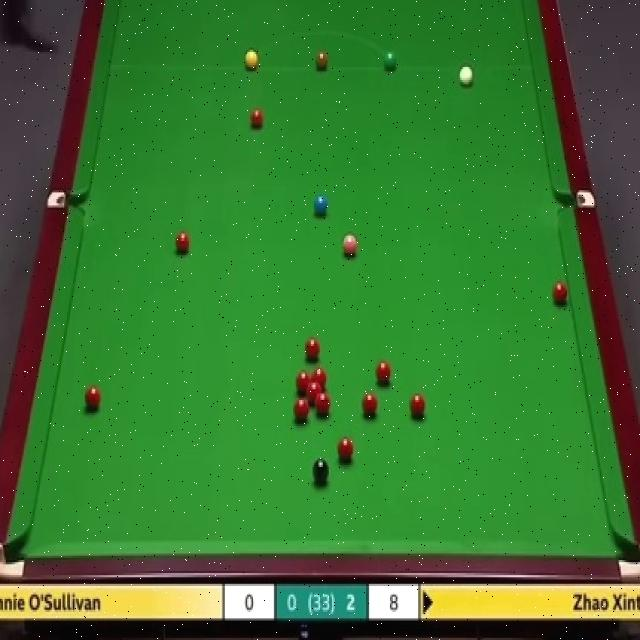black-ball: (312, 457, 328, 484)
blue-ball: (314, 192, 328, 220)
brown-ball: (314, 50, 328, 70)
green-ball: (383, 50, 398, 70)
pink-ball: (341, 233, 358, 258)
red-ball: (407, 392, 428, 421), (374, 357, 392, 388), (361, 391, 379, 422), (338, 434, 354, 465), (84, 384, 101, 413), (310, 366, 328, 392), (552, 280, 568, 308), (293, 398, 309, 424), (296, 370, 312, 396), (305, 338, 321, 363), (249, 108, 265, 131), (176, 230, 190, 256), (315, 392, 330, 416), (308, 382, 322, 404)
white-ball: (458, 65, 474, 87)
yellow-ball: (244, 50, 259, 70)
